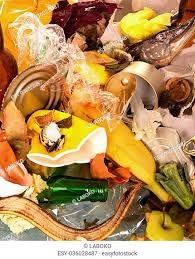glass: (13, 169, 114, 209)
kitchen_waste: (1, 182, 150, 243), (139, 206, 189, 240)
metal: (1, 58, 84, 129), (101, 57, 176, 124)
paper: (24, 106, 116, 168), (113, 2, 179, 45)
plastic: (6, 8, 121, 118)
